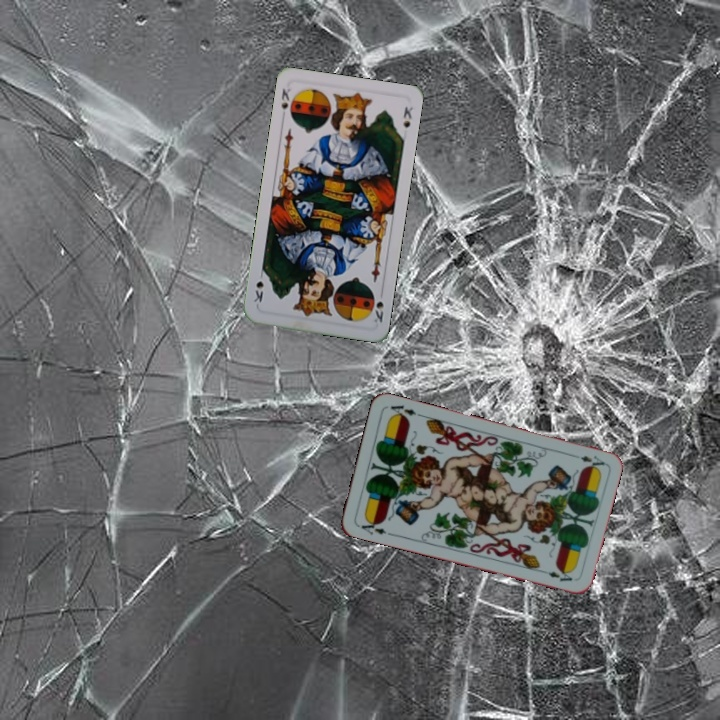EA: (354, 515, 389, 537), (577, 451, 607, 471)
SK: (367, 288, 386, 325), (277, 84, 293, 122)
